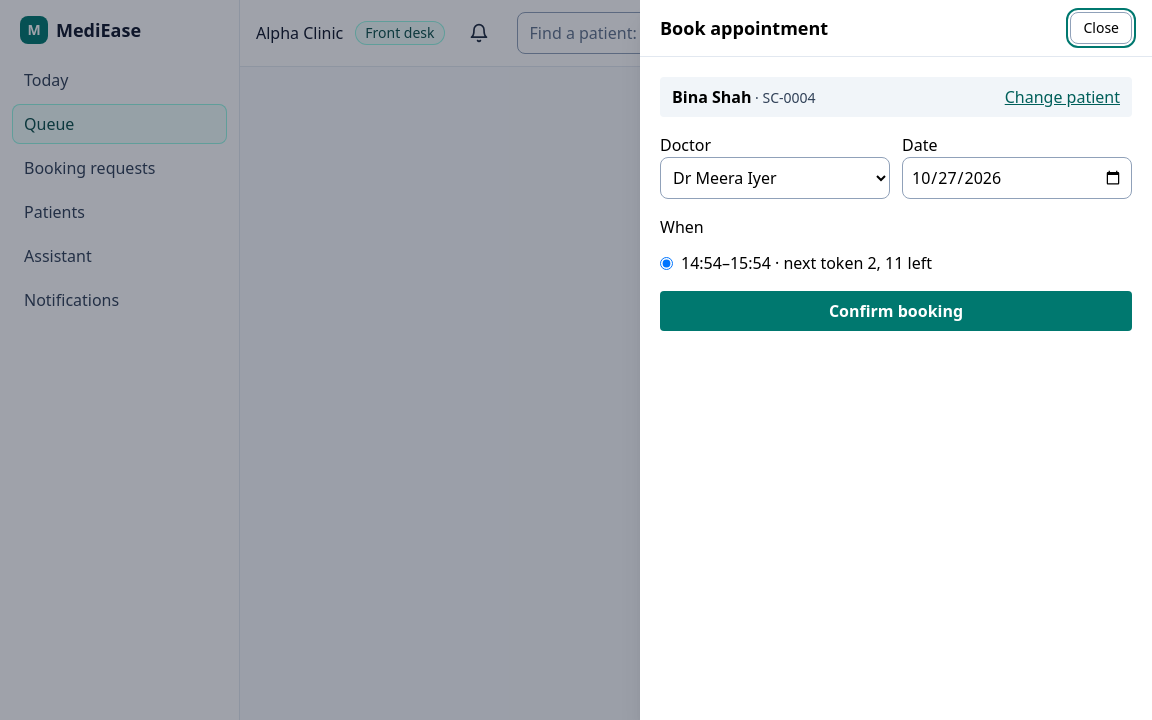
Scenario: booking over a held time (R18, R18a) › a hold that appeared meanwhile (409 APT_SLOT_HELD) asks the same question
Check: the radio button is shown, box [660,256,673,270]
Click the button "Confirm booking".
click(896, 311)  # box [660,291,1132,331]
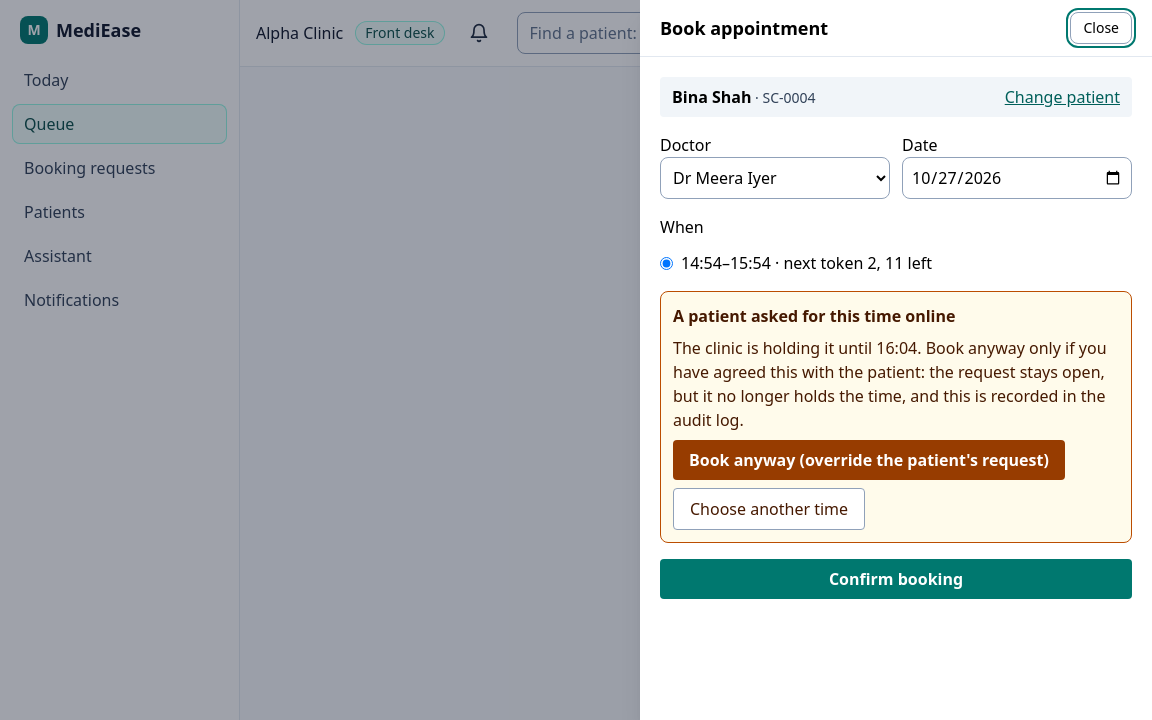
Check: the dialog shows "Book anyway only if you have agreed", box [673,337,1107,431]
